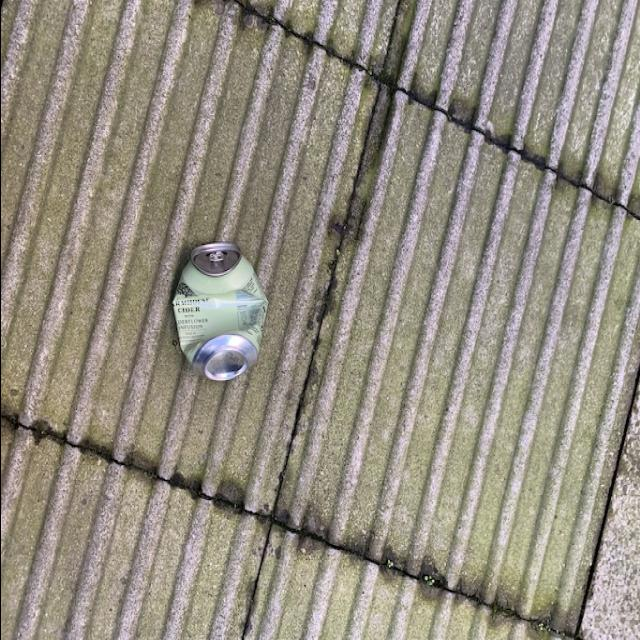Aluminum Can: (154, 227, 272, 415)
